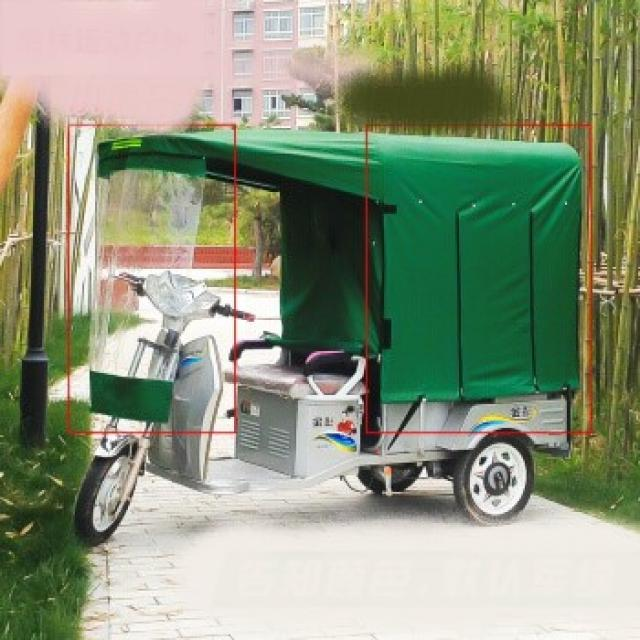tricycle: (68, 126, 582, 540)
